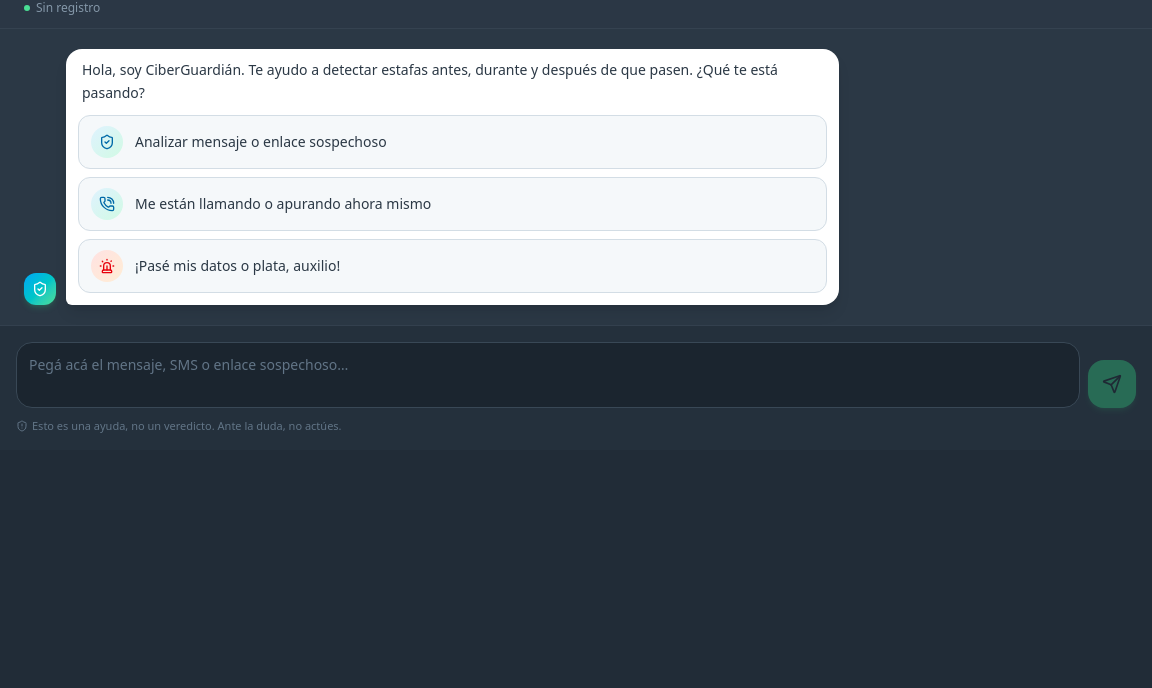
Scenario: ChatAssistant: preguntas de seguimiento (FH26-57) › después del análisis ofrece preguntas y pasa la caja a modo pregunta
Step 1. Type "Banco Formosa: pasame el token urgente" into the text box named "Mensaje sospechoso" → (548, 374), box [16,342,1080,408]
Then press Enter
(page scrolled)
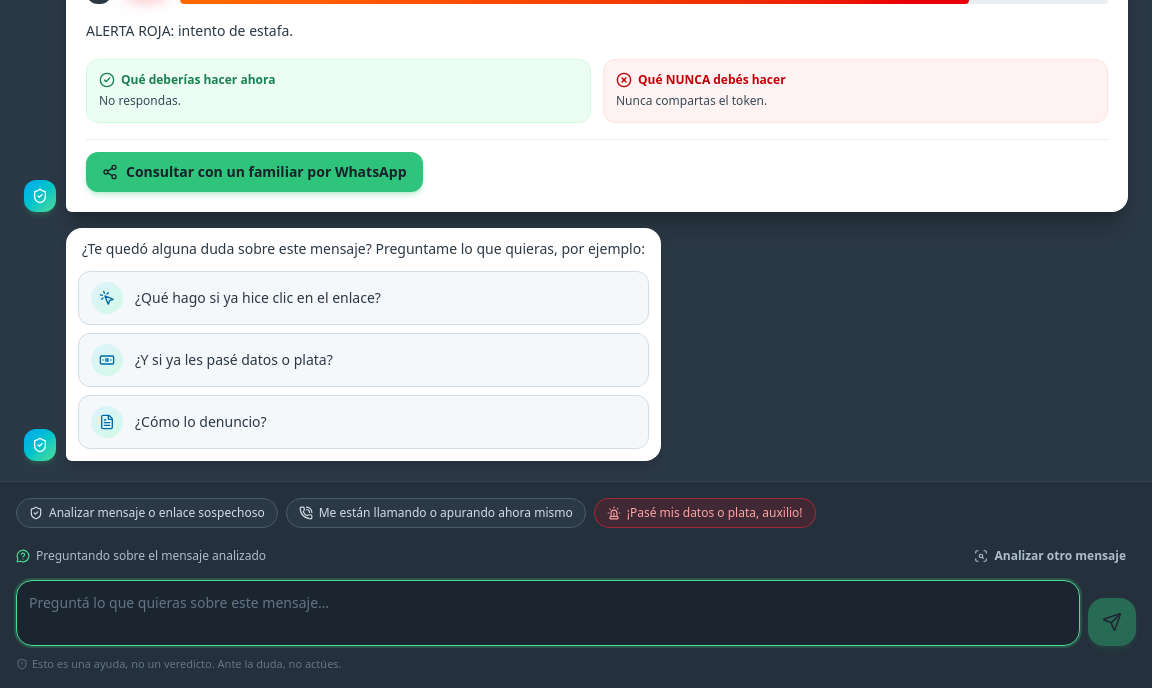
Expected: the text "ALERTA ROJA: intento de estafa." is shown, [86,21,293,40]
Expected: the button "¿Qué hago si ya hice clic en el enlace?" is shown, [78,271,649,325]
Expected: the text "Preguntando sobre el mensaje analizado" is shown, [16,548,266,564]
